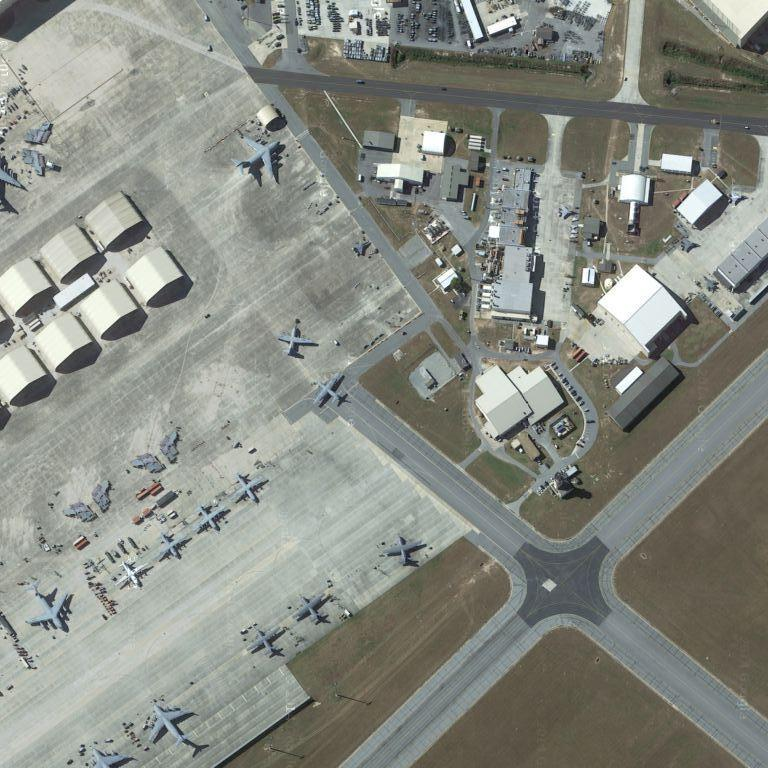C-130: (272, 321, 323, 360), (305, 367, 347, 413), (244, 620, 287, 661), (383, 534, 427, 570), (113, 556, 156, 591), (291, 592, 330, 630), (228, 473, 269, 507), (191, 503, 230, 537), (152, 532, 194, 562)
C-17: (228, 132, 284, 186), (140, 700, 199, 747), (25, 584, 77, 635)
